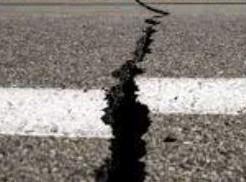crack: (92, 1, 170, 182)
